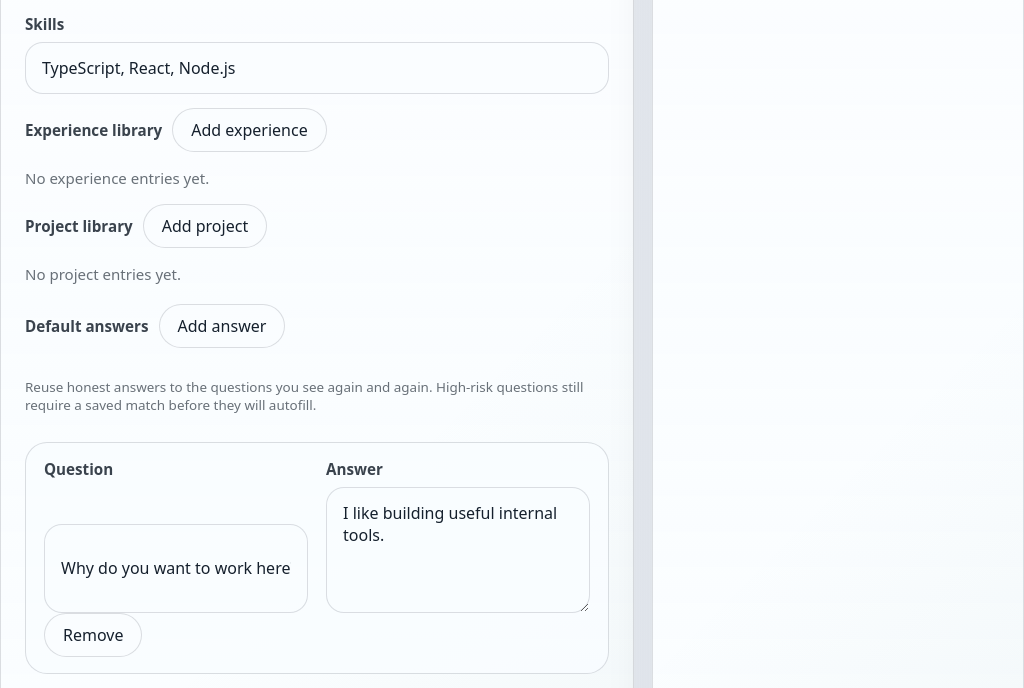
Test: ProfilePage default answers editor › ignores fully blank rows so they do not block save
The width and height of the screenshot is (1024, 688).
(page scrolled)
Click the button "Add answer".
click(222, 326)  # box [158,304,285,348]
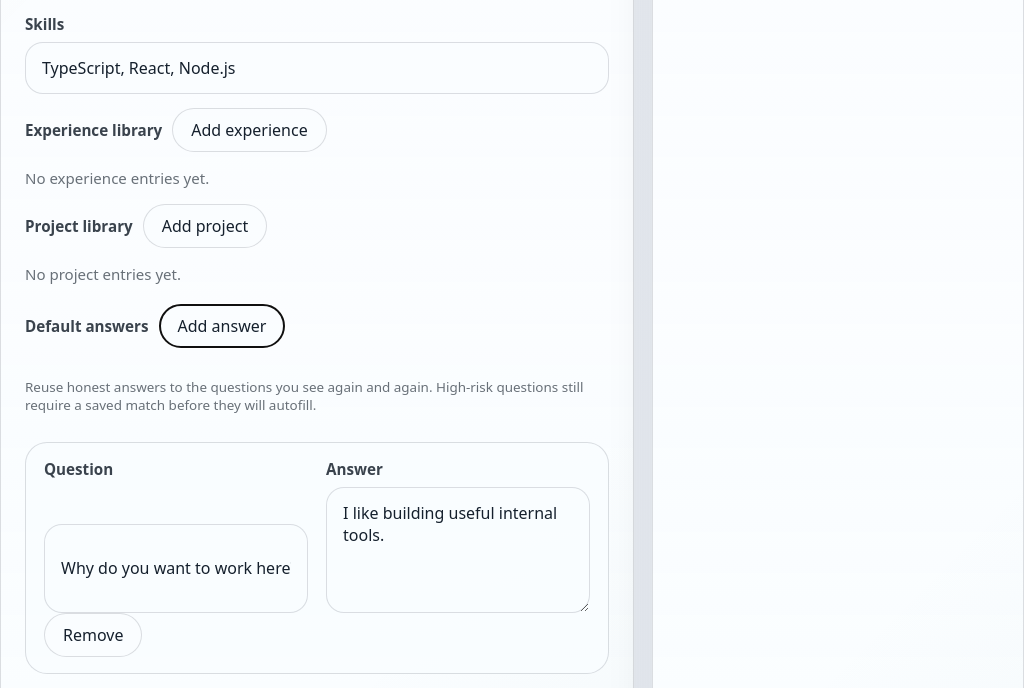
Replace the text in the text box labelled "Answer" with "I enjoy practical internal tools." at (458, 550), box [326,487,590,613]
(page scrolled)
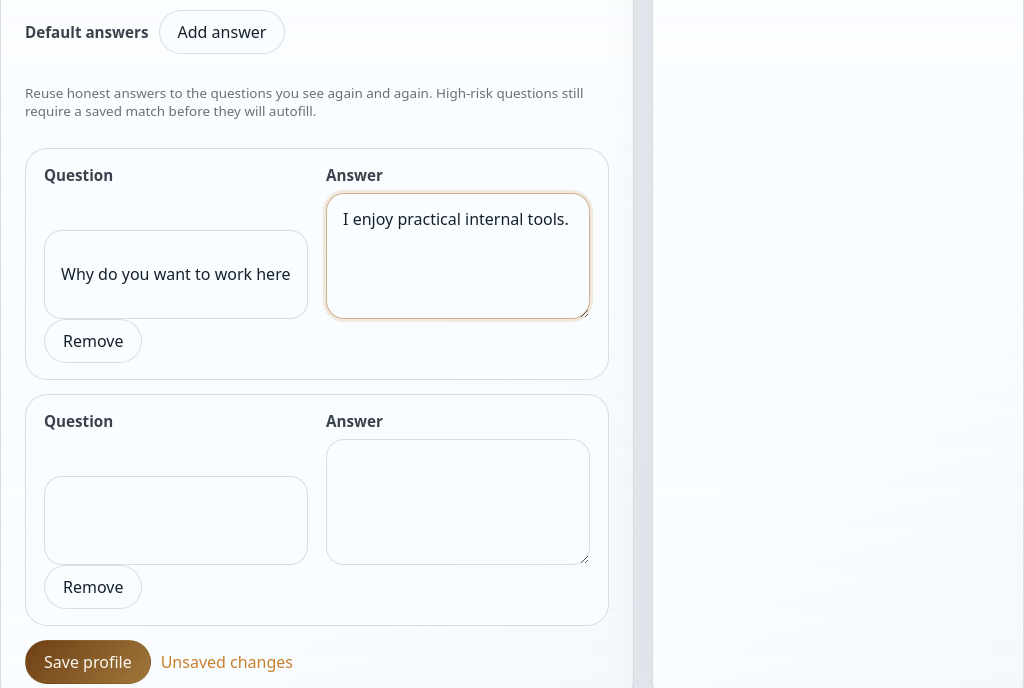
Expected: the button "Save profile" is enabled, [25,640,151,684]
